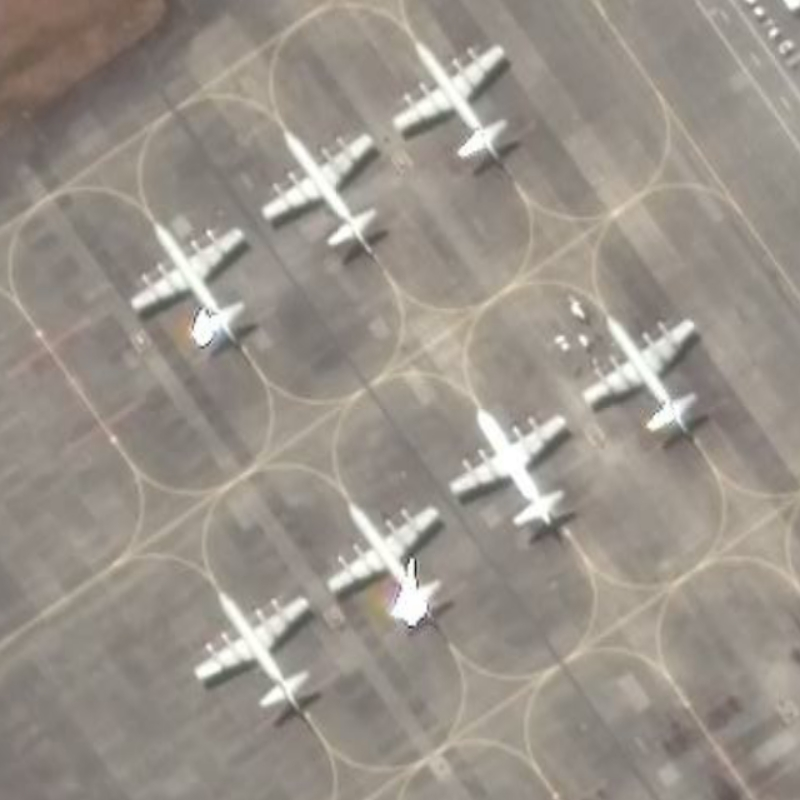A9: (384, 20, 531, 177), (254, 116, 403, 261), (442, 390, 580, 544), (115, 210, 257, 358), (183, 577, 324, 725), (577, 297, 711, 443), (321, 486, 448, 629)
